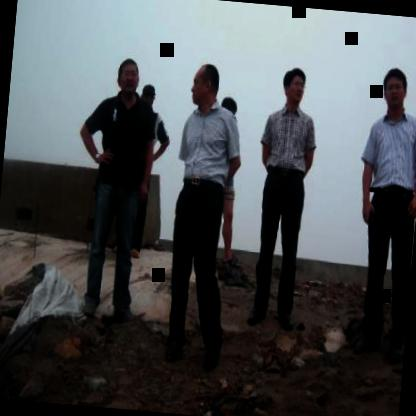head: (188, 58, 224, 112), (379, 64, 413, 115), (279, 64, 310, 110), (114, 54, 144, 99), (138, 82, 160, 114), (222, 94, 240, 125)
